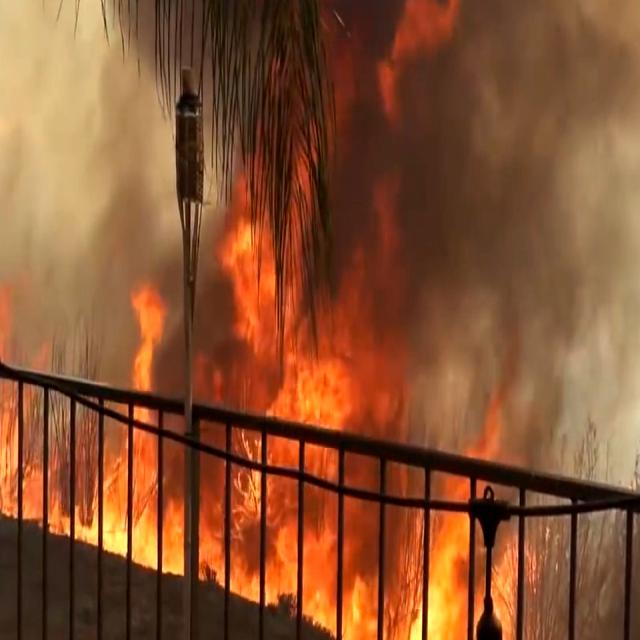fire: (215, 193, 273, 404), (284, 330, 392, 434)
smoke: (470, 16, 640, 310), (0, 14, 117, 255)
